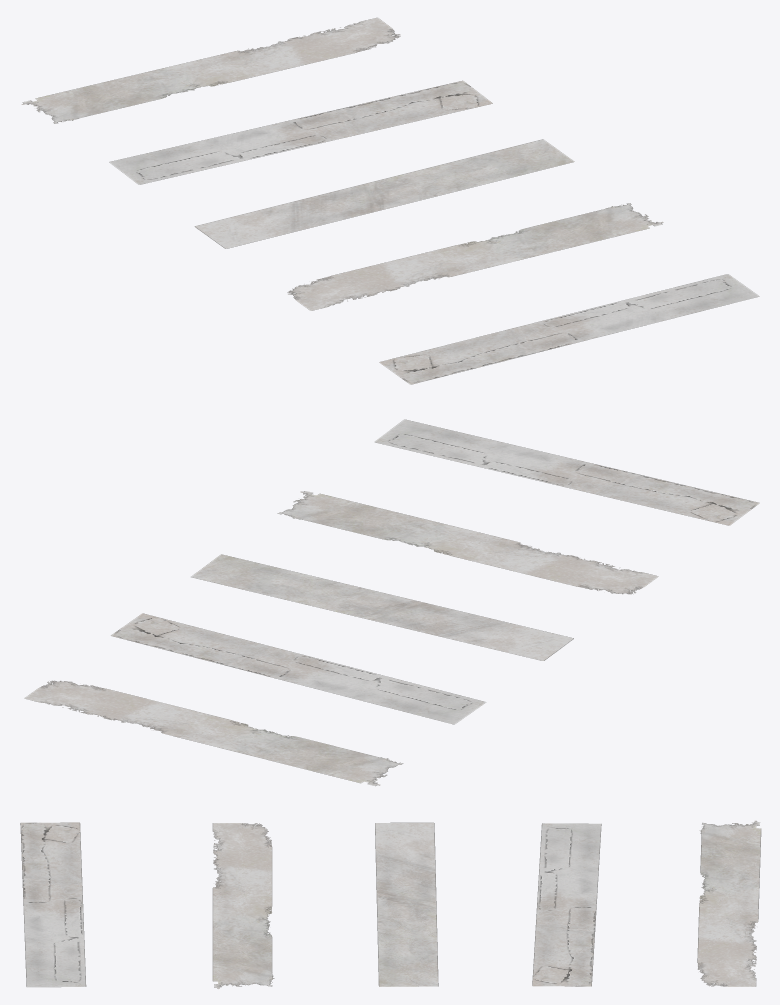
File: MB_Pedestrian_Crossing.fbx
3 views of the same model, one above another, from view 1: azimuth 30°, elevation 25°; view 2: azimuth 150°, elevation 25°; view 3: azimuth 270°, elevation 25° (orthographic). The views are drawn at different scales.
Visible parts, largest first — view 1: MB_Pedestrian_Crossing; view 2: MB_Pedestrian_Crossing; view 3: MB_Pedestrian_Crossing.
Part boxes in pixels (bbox=[...]): MB_Pedestrian_Crossing: bbox=[21, 17, 759, 384]; MB_Pedestrian_Crossing: bbox=[24, 419, 759, 786]; MB_Pedestrian_Crossing: bbox=[20, 820, 761, 988].
Size of the model in its own units: 241 by 0 by 444.
